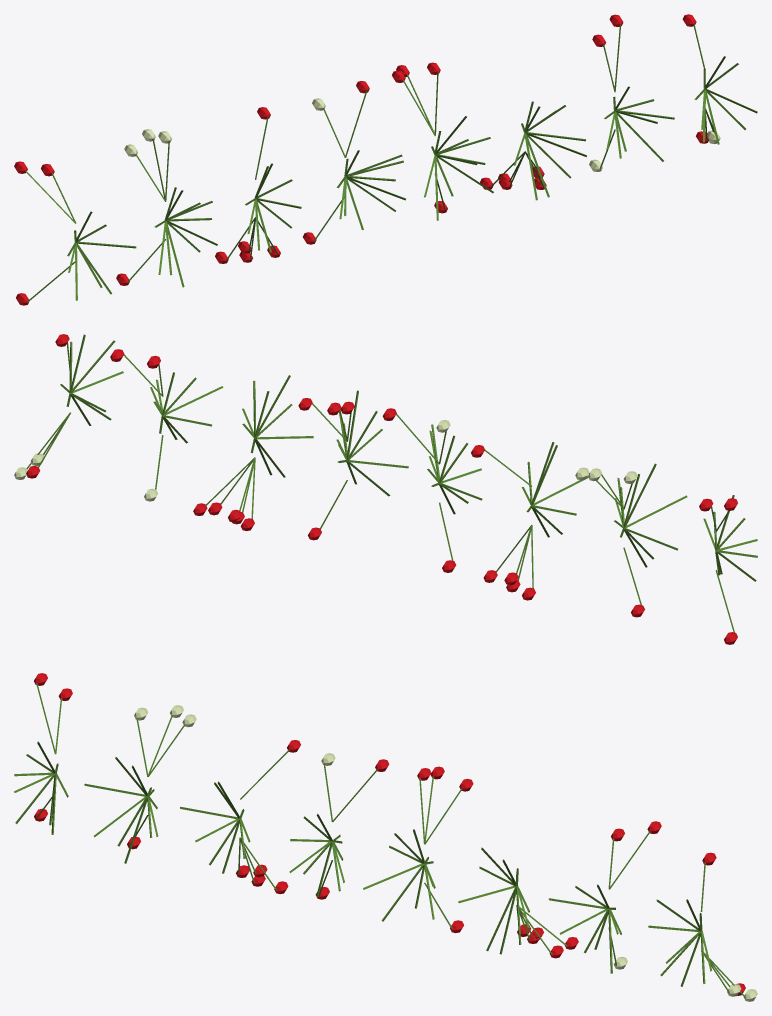
The model's file is r31c0_rest.obj.
3 renders of one model, top to bottom at view 1: azimuth 30°, elevation 25°; view 2: azimuth 150°, elevation 25°; view 3: azimuth 330°, elevation 25°, orthographic. The views are drawn at different scales.
Visible parts, largest first — view 1: r31c0_rest; view 2: r31c0_rest; view 3: r31c0_rest.
Boxes of the visible parts, x1,y1,x2,y2 form: r31c0_rest: (14,14,757,305); r31c0_rest: (14,334,757,644); r31c0_rest: (14,673,757,1001).
Size of the model in its own units: 1.95 by 0.3998 by 0.2562.
